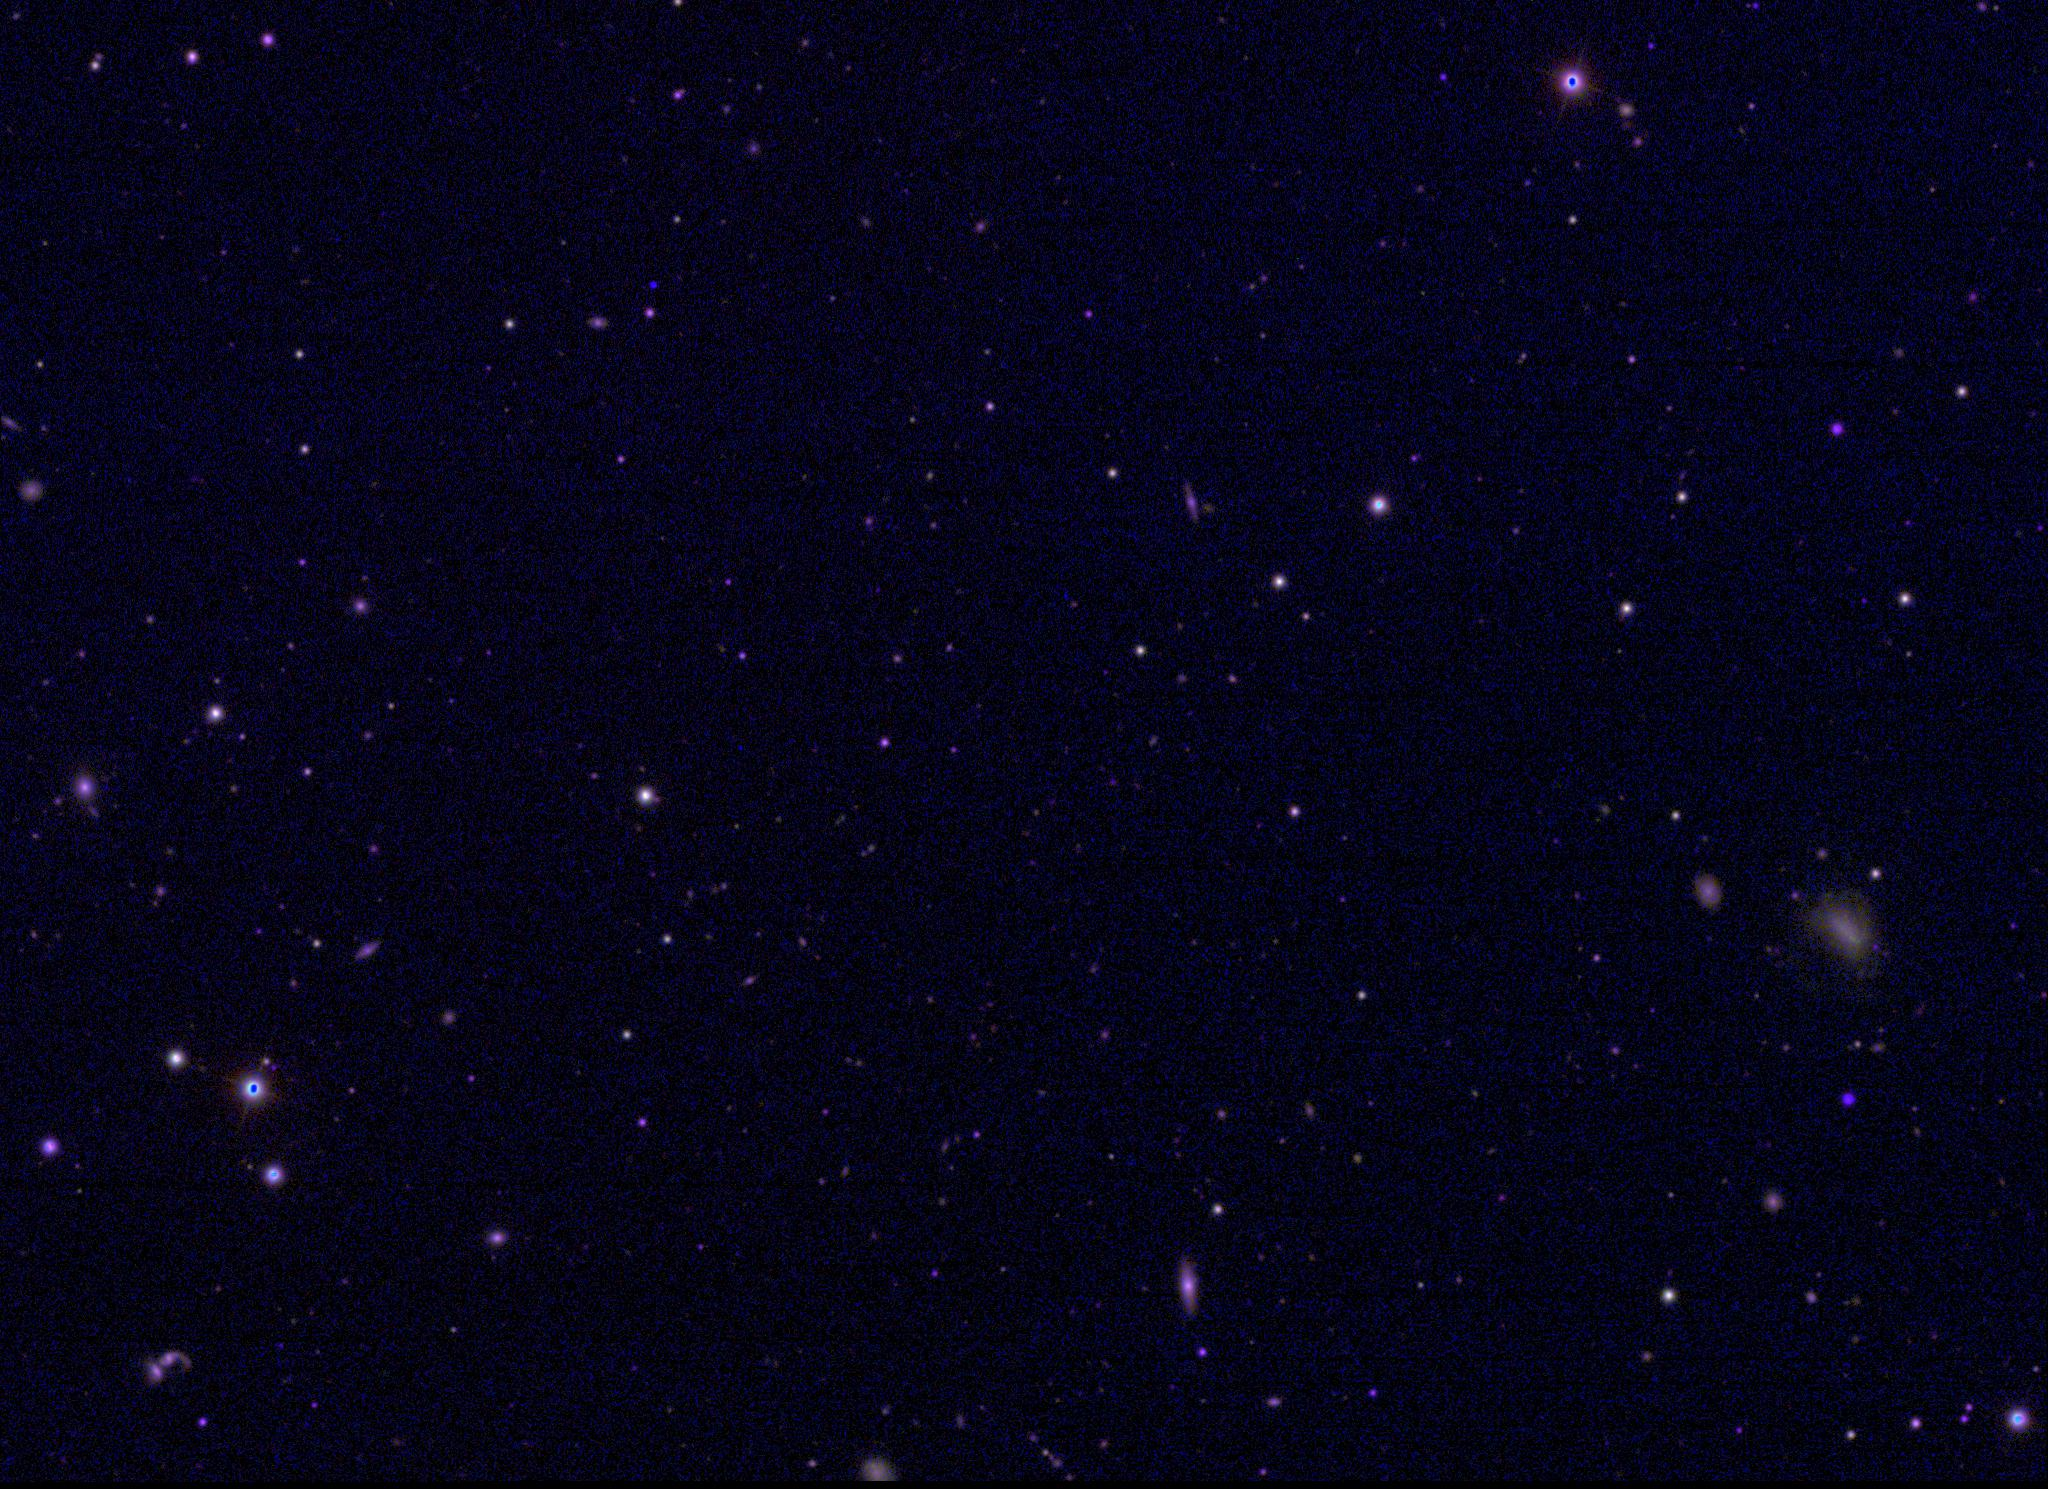L: (647, 278, 661, 293)
